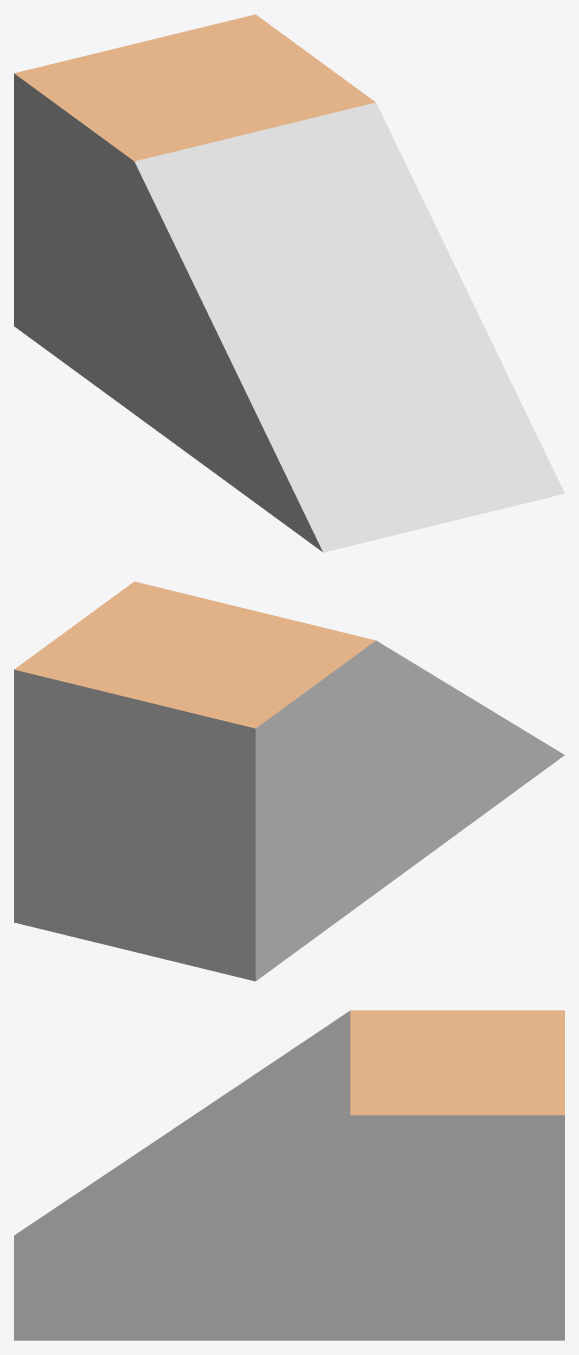
File: platform.glb
The picture shows the model from 3 angles, top to bottom: view 1: azimuth 30°, elevation 25°; view 2: azimuth 150°, elevation 25°; view 3: azimuth 270°, elevation 25°; orthographic projection. The views are drawn at different scales.
Visible parts, largest first — view 1: Cube; view 2: Cube; view 3: Cube.
Boxes of the visible parts, x1=… form: Cube: x1=14, y1=14, x2=564, y2=552; Cube: x1=14, y1=581, x2=564, y2=981; Cube: x1=14, y1=1010, x2=564, y2=1340.
Size of the model in its own units: 2 by 2 by 4.43.
